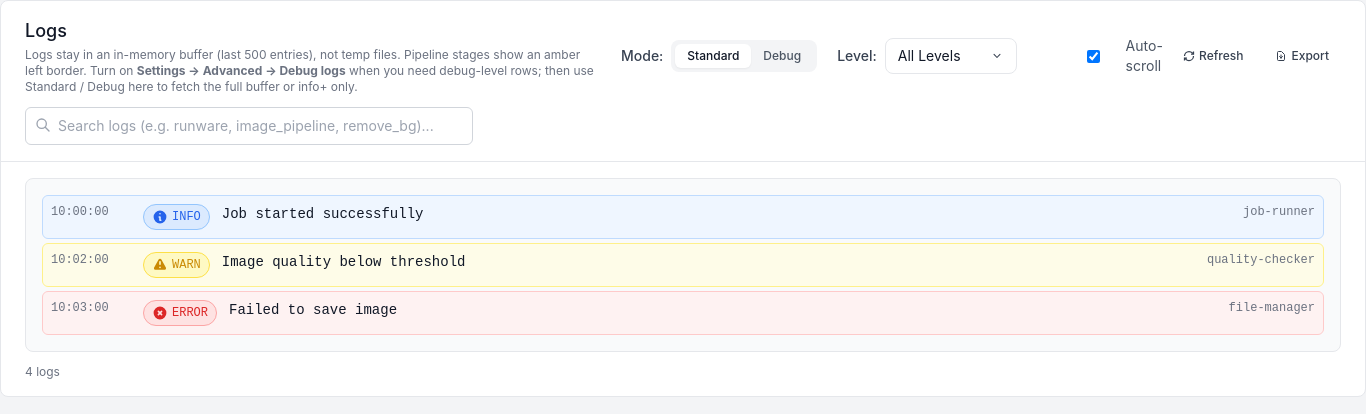
it: LogViewer › filters logs by search term
In the field with placeholder "Search logs (e.g. runware, image_pipeline, remove_bg)...": (249, 126) [25,107,473,145], type "quality"
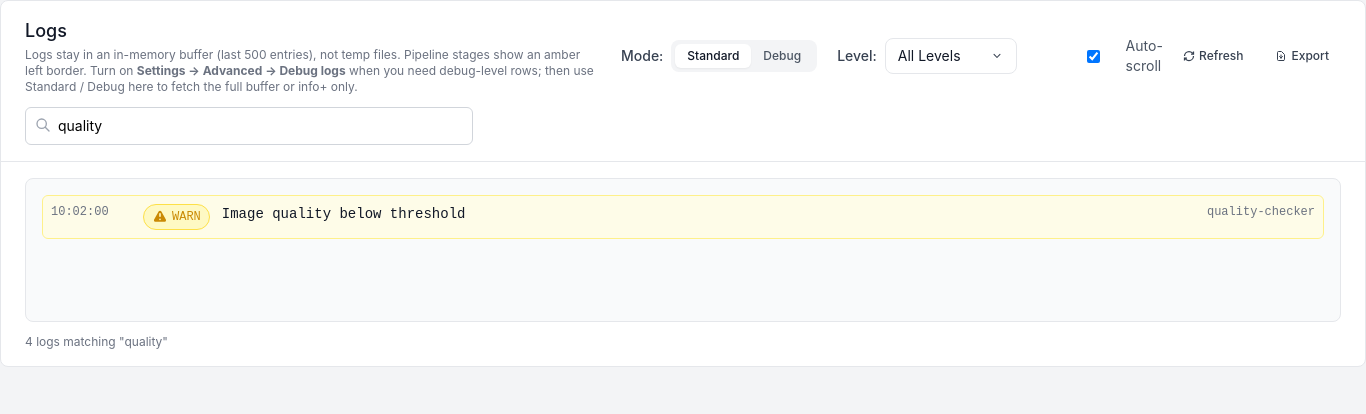
Check: the text "Image quality below threshold" is shown, box [222,206,465,222]
Check: the text "Job started successfully" is gone
Check: the text "Failed to save image" is gone
